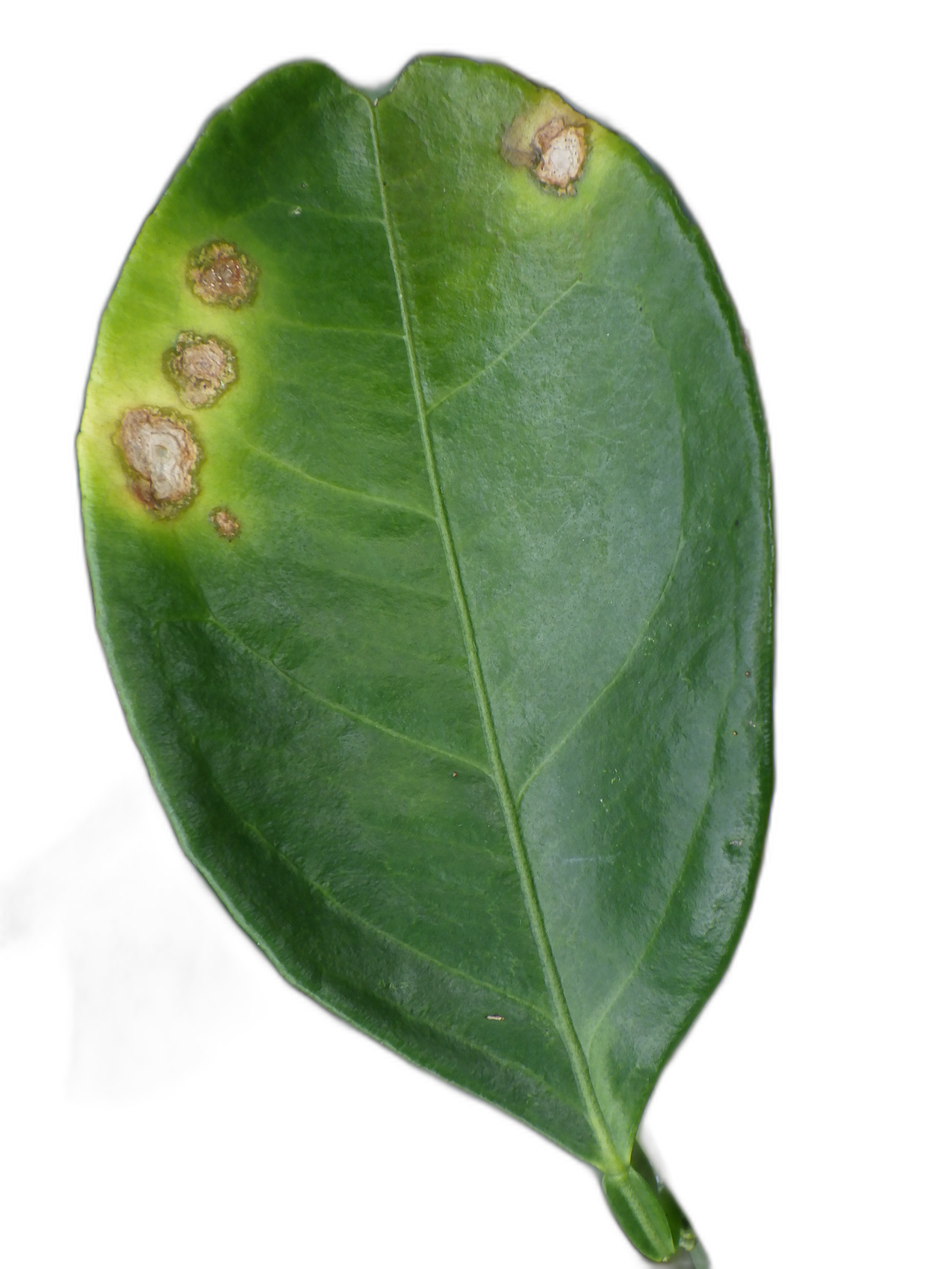Canker: (118, 407, 200, 514), (163, 330, 237, 408), (187, 242, 258, 309), (531, 116, 585, 193), (211, 509, 239, 540)
